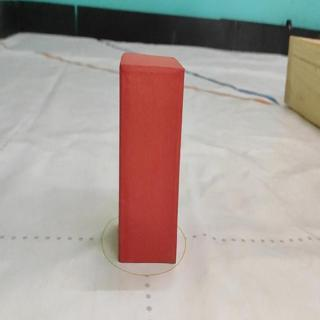redbox: (117, 50, 185, 263)
